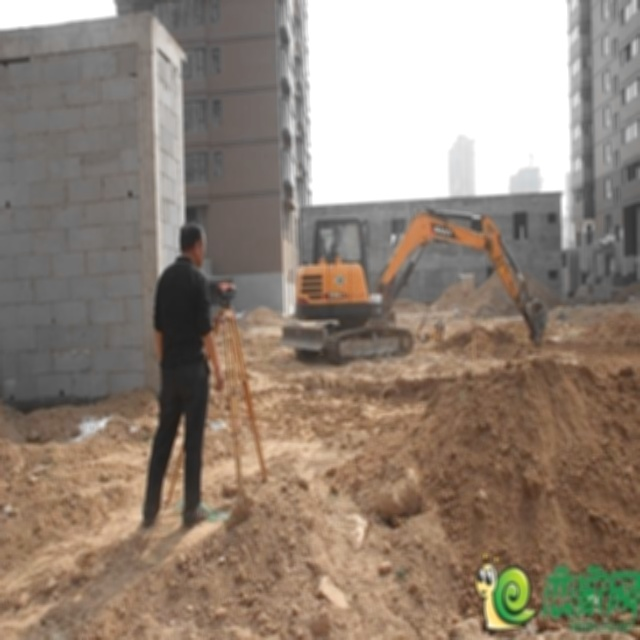Sin_Casco_Mascarrilla: (179, 221, 205, 262)
Sin_Chaleco: (157, 264, 209, 376)
